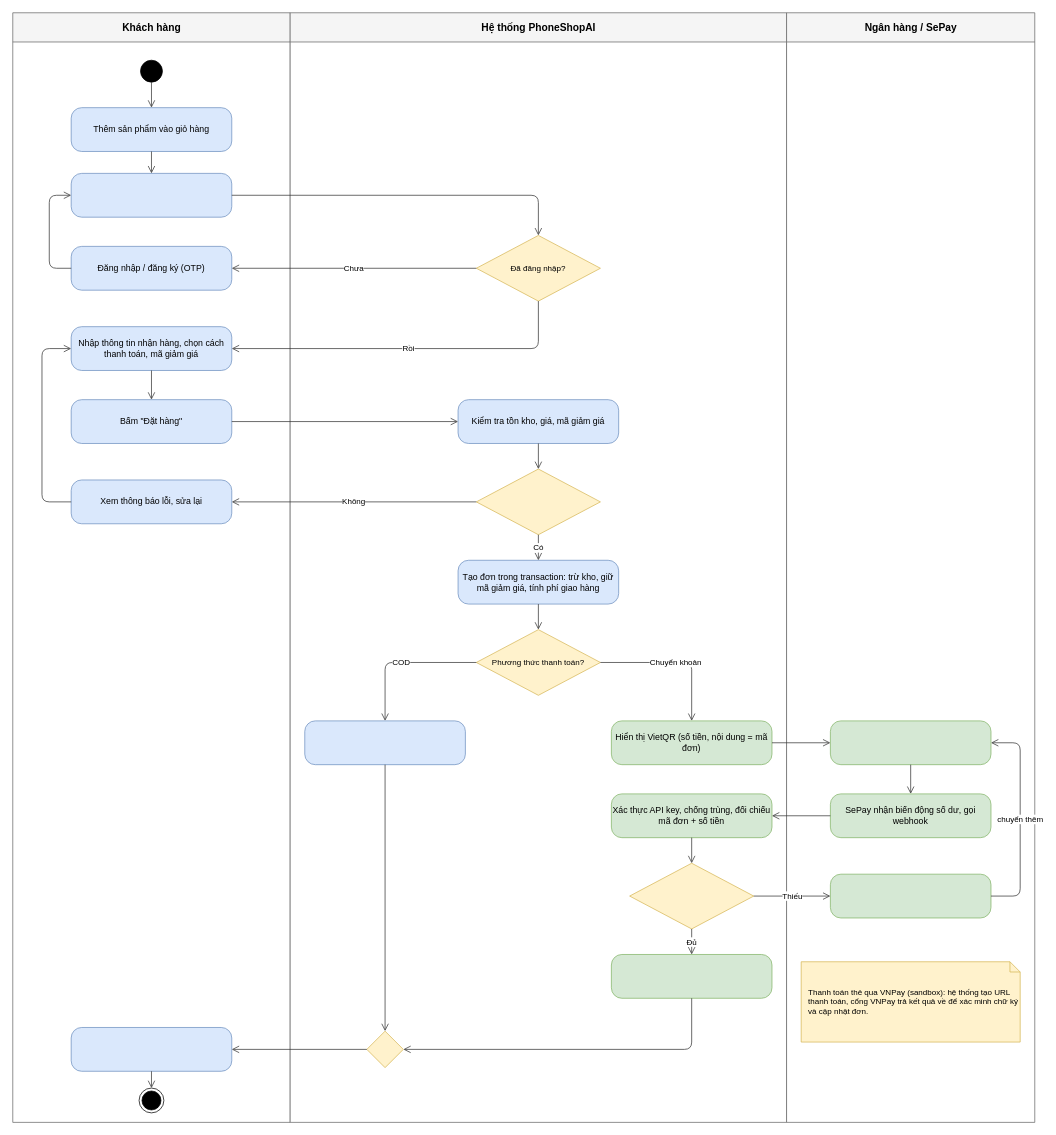
Some shapes in this 1056 by 1135 pixel diagram are drawn without their labels. Here are the shapes that lost their labels. From the top down, the centre of each, then its label:
pixel 151 195: Mở giỏ hàng, bấm "Thanh toán"
pixel 538 501: Hợp lệ?
pixel 384 742: Đơn ở trạng thái "Chờ xác nhận"
pixel 910 742: Khách quét QR, chuyển khoản qua app ngân hàng
pixel 691 895: Đủ tiền?
pixel 910 895: Ghi nhận chuyển thiếu, chờ khách chuyển thêm
pixel 691 976: Đơn → "Đã thanh toán" và "Đã xác nhận"
pixel 151 1049: Xem trang đặt hàng thành công / trạng thái đơn
